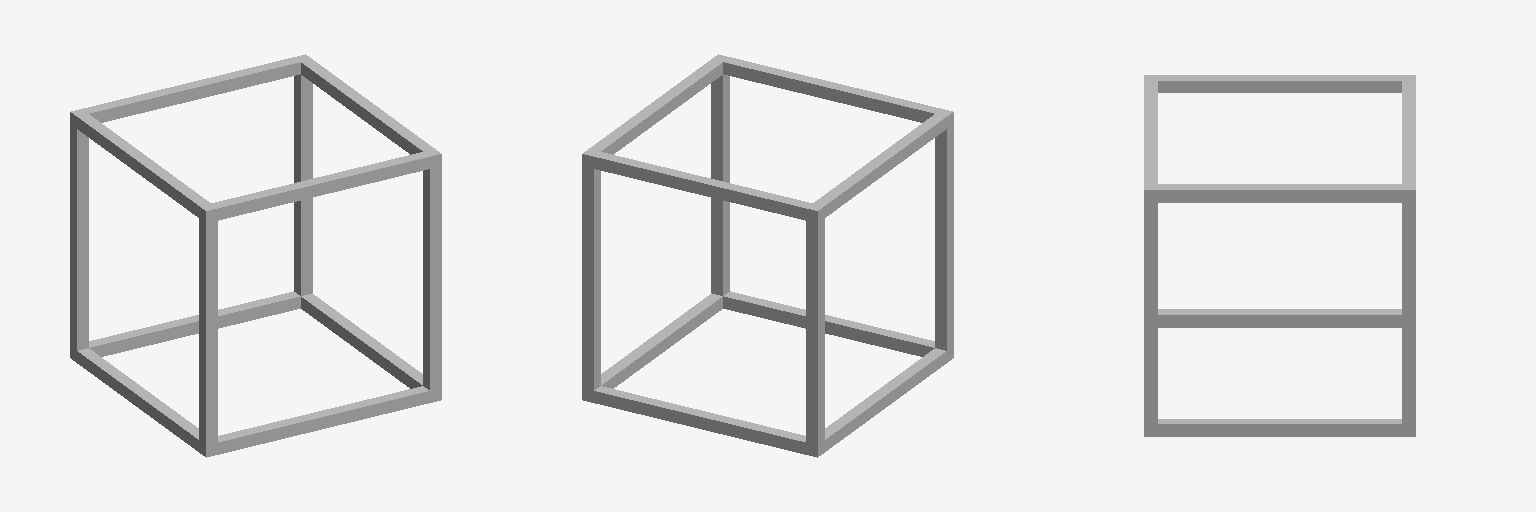
File: tinker (2).obj
3 views of the same model, side by side, from view 1: azimuth 30°, elevation 25°; view 2: azimuth 150°, elevation 25°; view 3: azimuth 270°, elevation 25° (orthographic).
Visible parts, largest first — view 1: obj_0; view 2: obj_0; view 3: obj_0.
Part boxes in pixels (x1,y1,x2,y2): obj_0: (70,54,441,457); obj_0: (582,54,953,457); obj_0: (1144,75,1415,436).
Bounding box in the file's own units: 20 × 20 × 20.